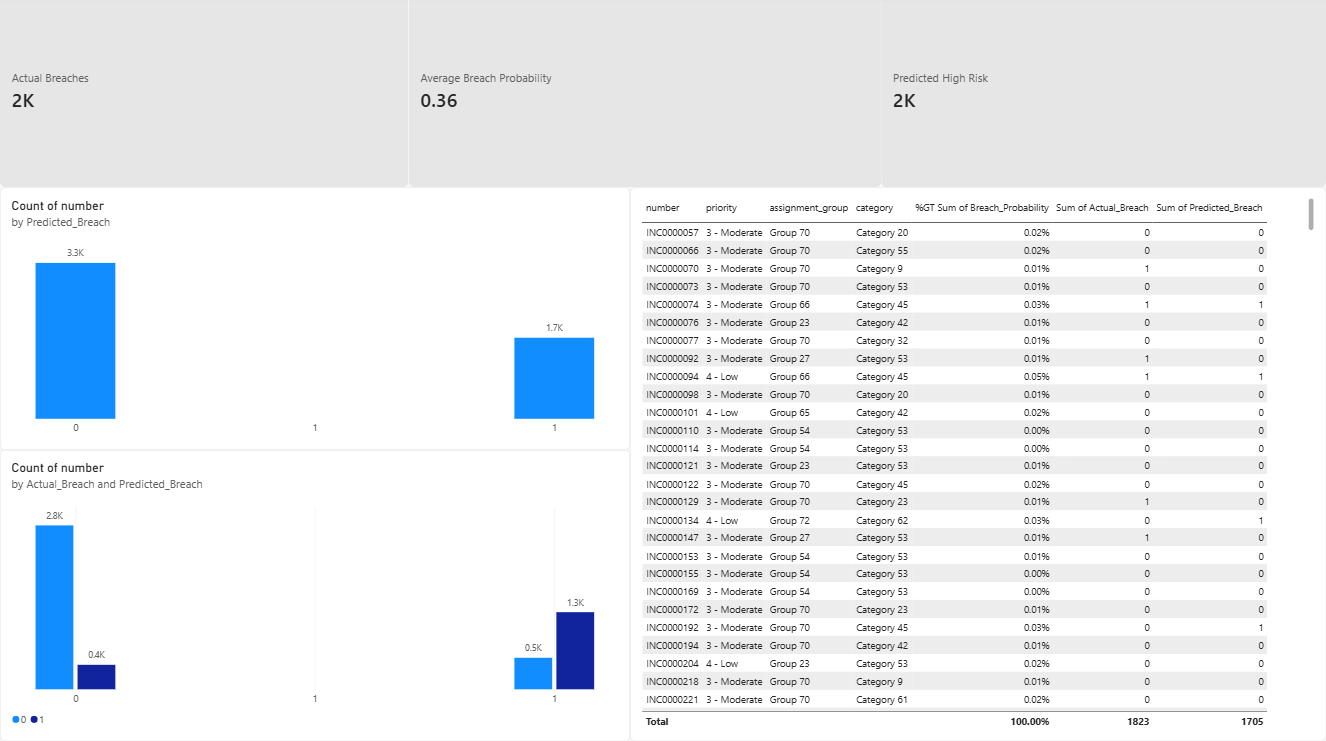

This screenshot's page, from the dashboard's own definition file:
{"tool":"powerbi","page":{"name":"ML Risk Analysis","canvas":[1920,1080],"ordinal":1},"visuals":[{"type":"cardVisual","fields":{"Data":["ml_predictions.Average Breach Probability"]},"box":[591.8,0,684.1,278.7],"z":0},{"type":"cardVisual","fields":{"Data":["ml_predictions.Predicted High Risk"]},"box":[1275.8,0,644.2,278.7],"z":2},{"type":"cardVisual","fields":{"Data":["ml_predictions.Actual Breaches"]},"box":[0,0,591.8,278.7],"z":3},{"type":"columnChart","fields":{"Category":["ml_predictions.Predicted_Breach"],"Y":["CountNonNull(ml_predictions.number)"]},"box":[0,278.7,912.1,380],"z":4},{"type":"clusteredColumnChart","fields":{"Category":["ml_predictions.Actual_Breach"],"Series":["ml_predictions.Predicted_Breach"],"Y":["CountNonNull(ml_predictions.number)"]},"box":[0,658.7,912.1,421.7],"z":5},{"type":"tableEx","fields":{"Values":["ml_predictions.number","ml_predictions.priority","ml_predictions.assignment_group","ml_predictions.category","Sum(ml_predictions.Breach_Probability)","Sum(ml_predictions.Actual_Breach)","Sum(ml_predictions.Predicted_Breach)"]},"box":[912.1,278.7,1008,801.7],"z":6}]}

Visuals, with their boxes in screenshot pixels (x1, y1, x2, y2), scaled from the page's 1920x1080 canvas onto the 1326x741 screenshot:
cardVisual - ml_predictions.Average Breach Probability: 409 0 881 191
cardVisual - ml_predictions.Predicted High Risk: 881 0 1325 191
cardVisual - ml_predictions.Actual Breaches: 0 0 409 191
columnChart - ml_predictions.Predicted_Breach x CountNonNull(ml_predictions.number): 0 191 630 452
clusteredColumnChart - ml_predictions.Actual_Breach x ml_predictions.Predicted_Breach: 0 452 630 740
tableEx - ml_predictions.number x ml_predictions.priority: 630 191 1325 740
